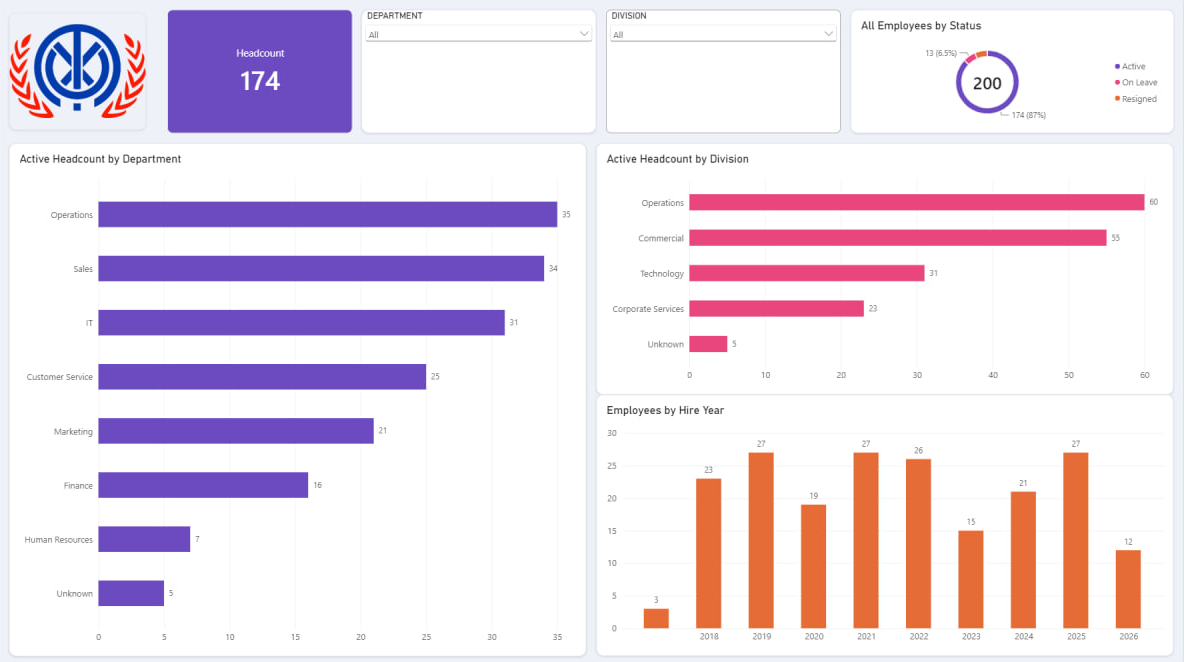

The page's visual inventory and layout, read from the dashboard file:
{"tool":"powerbi","page":{"name":"Workforce","canvas":[1920,1080],"ordinal":2},"visuals":[{"type":"clusteredBarChart","title":"Active Headcount by Department","fields":{"Category":["DIM_EMPLOYEE.DEPARTMENT"],"Y":["DIM_EMPLOYEE.Headcount"]},"box":[16,232,936,832],"z":0},{"type":"clusteredBarChart","title":"Active Headcount by Division","fields":{"Category":["DIM_EMPLOYEE.DIVISION"],"Y":["DIM_EMPLOYEE.Headcount"]},"box":[968,232,936,408],"z":1000},{"type":"cardVisual","fields":{"Data":["DIM_EMPLOYEE.Headcount"]},"box":[272,16,300,200],"z":2000},{"type":"slicer","fields":{"Values":["DIM_EMPLOYEE.DEPARTMENT"]},"box":[588,16,380,200],"z":3000},{"type":"slicer","fields":{"Values":["DIM_EMPLOYEE.DIVISION"]},"box":[984,16,380,200],"z":4000},{"type":"donutChart","title":"All Employees by Status","fields":{"Category":["DIM_EMPLOYEE.EMPLOYMENT_STATUS"],"Y":["DIM_EMPLOYEE.Total Employees"]},"box":[1380,16,524,200],"z":5000},{"type":"image","box":[15.6,21.1,222.2,190],"z":6000},{"type":"clusteredColumnChart","title":"Employees by Hire Year","fields":{"Category":["DIM_EMPLOYEE.HIRE_YEAR"],"Y":["DIM_EMPLOYEE.Total Employees"]},"box":[968,640,936,424],"z":7000}]}

Visuals, with their boxes in screenshot pixels (x1, y1, x2, y2), scaled from the page's 1920x1080 canvas onto the 1184x662 screenshot:
"Active Headcount by Department" clusteredBarChart: select_region(10, 142, 587, 652)
"Active Headcount by Division" clusteredBarChart: select_region(597, 142, 1174, 392)
cardVisual - DIM_EMPLOYEE.Headcount: select_region(168, 10, 353, 132)
slicer - DIM_EMPLOYEE.DEPARTMENT: select_region(363, 10, 597, 132)
slicer - DIM_EMPLOYEE.DIVISION: select_region(607, 10, 841, 132)
"All Employees by Status" donutChart: select_region(851, 10, 1174, 132)
image: select_region(10, 13, 147, 129)
"Employees by Hire Year" clusteredColumnChart: select_region(597, 392, 1174, 652)
